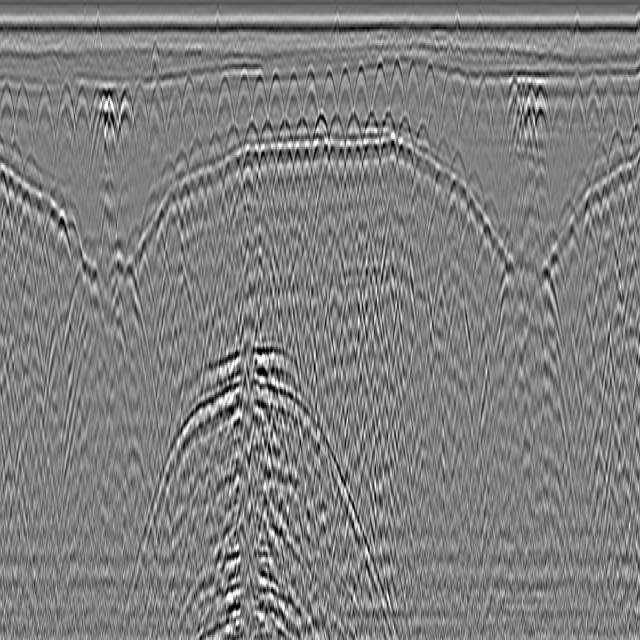hyperbola: (68, 68, 90, 171), (484, 68, 510, 150), (146, 68, 168, 163), (51, 81, 74, 171), (470, 61, 491, 150), (31, 77, 53, 161), (128, 68, 147, 163), (113, 84, 132, 178), (419, 39, 438, 133), (402, 42, 422, 130), (179, 61, 197, 156), (456, 61, 475, 150), (214, 58, 234, 140), (370, 42, 389, 128), (530, 72, 550, 150), (13, 81, 32, 163), (569, 68, 585, 163), (352, 49, 370, 132), (196, 64, 214, 146), (439, 58, 458, 135), (600, 58, 616, 146), (284, 55, 302, 133), (166, 81, 183, 163), (552, 71, 569, 151), (0, 71, 15, 161), (235, 65, 253, 140), (265, 71, 284, 140), (584, 68, 600, 148), (388, 42, 405, 117), (616, 68, 634, 138), (302, 61, 320, 130), (334, 52, 353, 117), (252, 58, 267, 138), (319, 59, 336, 128)
